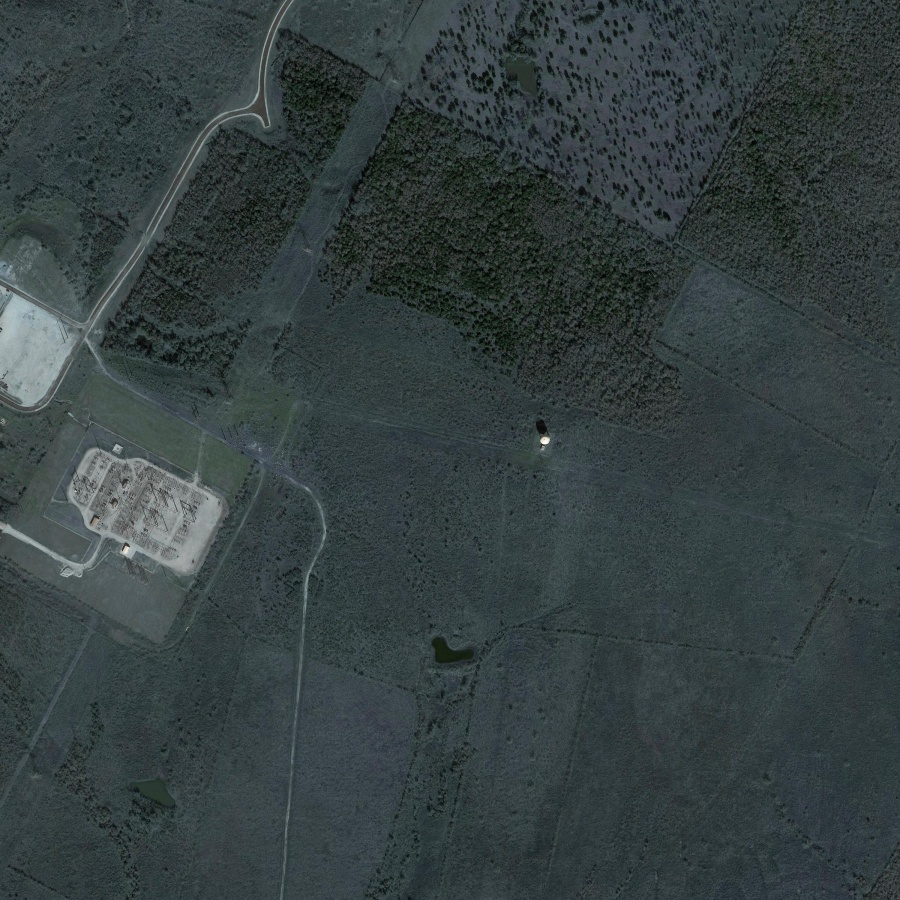PowerPlant: (65, 432, 212, 568)
